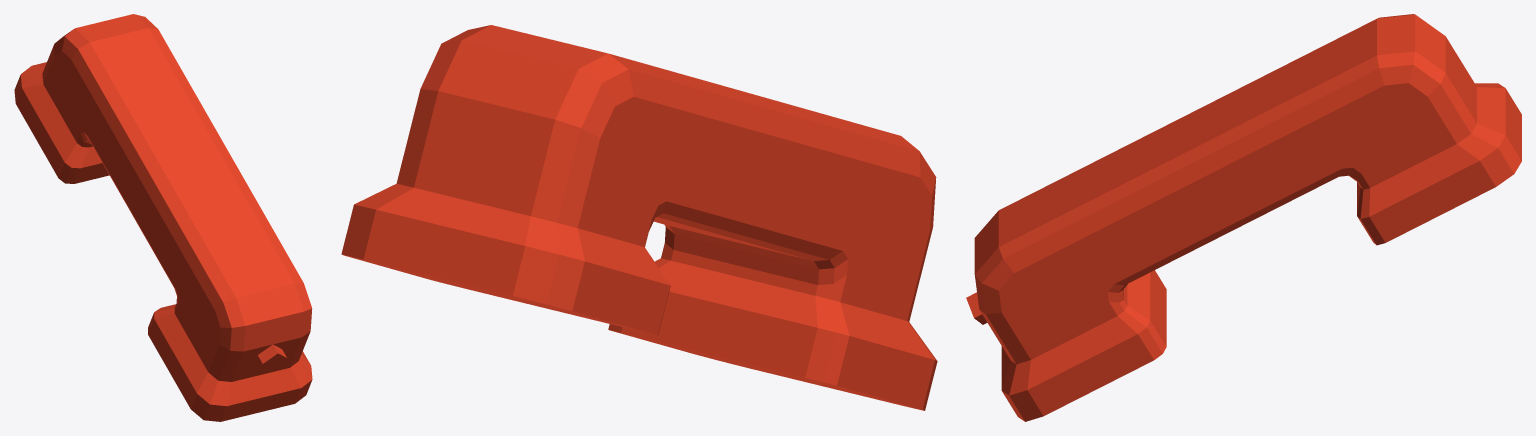
Rendered from PhoneHorn.glb.
3 views of the same model, side by side, from view 1: azimuth 30°, elevation 25°; view 2: azimuth 150°, elevation 25°; view 3: azimuth 270°, elevation 25° (orthographic). The views are drawn at different scales.
Visible parts, largest first — view 1: Cube.001; view 2: Cube.001; view 3: Cube.001.
Boxes of the visible parts, x1,y1,x2,y2 form: Cube.001: (14,14,312,421); Cube.001: (341,25,937,410); Cube.001: (966,14,1521,421).
Size of the model in its own units: 0.2551 by 0.5957 by 0.8321.
